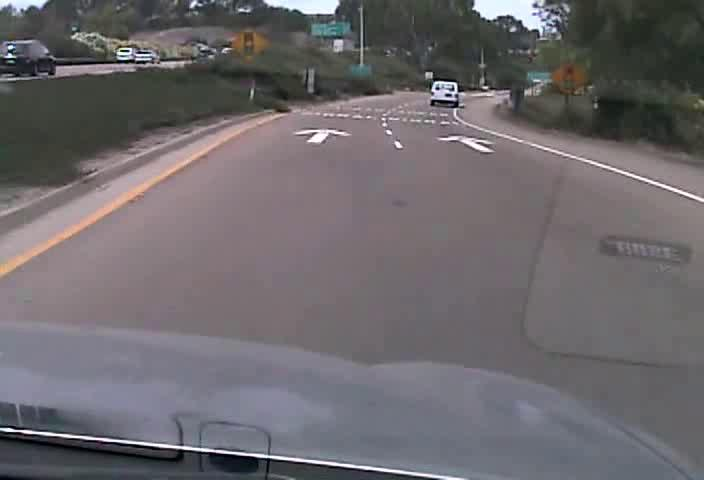signalAhead: (228, 25, 270, 63)
